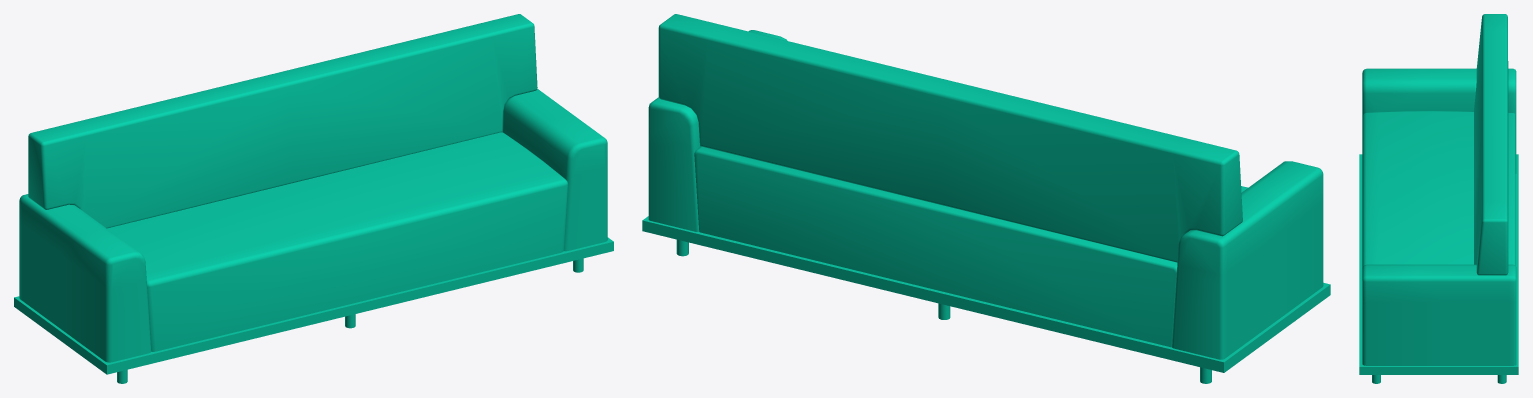
Rendered from Sofa_1.fbx.
3 renders of one model, left to right at view 1: azimuth 30°, elevation 25°; view 2: azimuth 150°, elevation 25°; view 3: azimuth 270°, elevation 25°, orthographic. The views are drawn at different scales.
Visible parts, largest first — view 1: Sofa_1; view 2: Sofa_1; view 3: Sofa_1.
Part boxes in pixels (x1,y1,x2,y2): Sofa_1: (14,14,613,383); Sofa_1: (642,14,1330,383); Sofa_1: (1359,14,1518,383).
Bounding box in the file's own units: 222 × 82.84 × 70.5.
